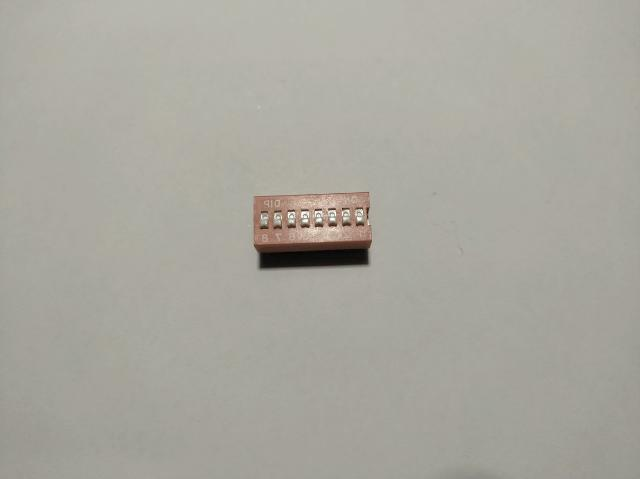dip_switch: (254, 190, 370, 255)
